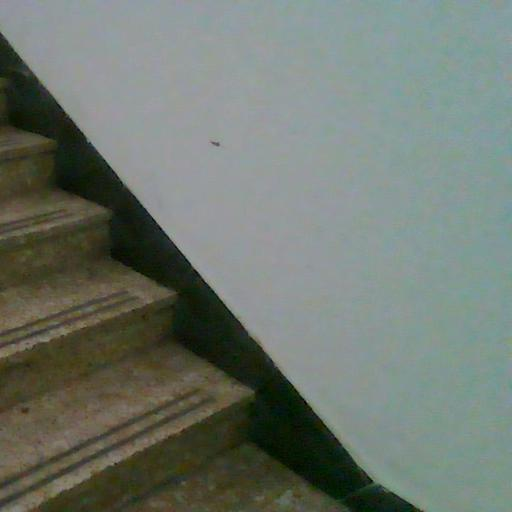stairs: (0, 79, 341, 511)
